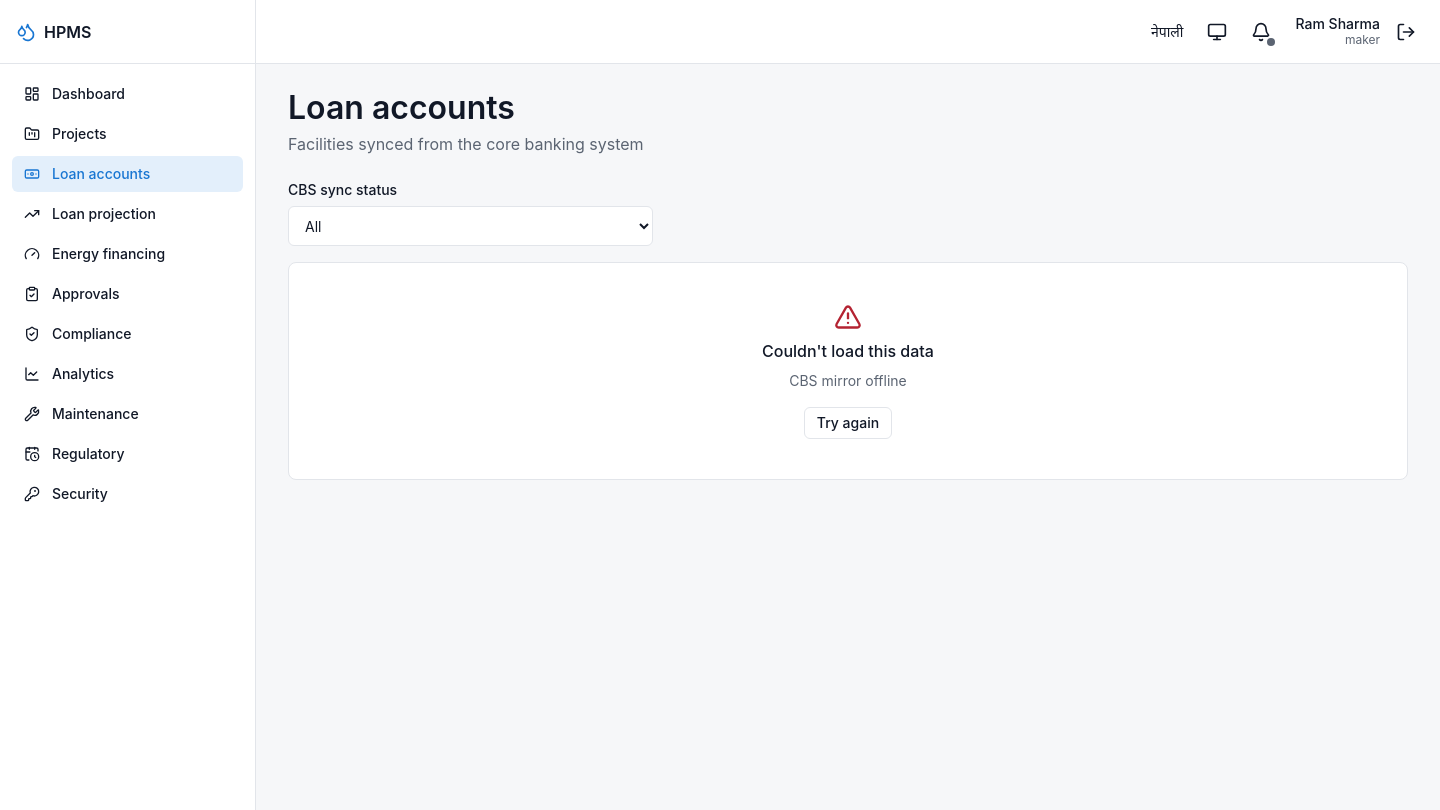
Test: LoansPage › shows an error with retry when loading fails, and recovers
The width and height of the screenshot is (1440, 810).
expect the text "CBS mirror offline" is shown: met, box [789,371,907,391]
Click the button "Try again" at (848, 423), box [804,407,892,439]
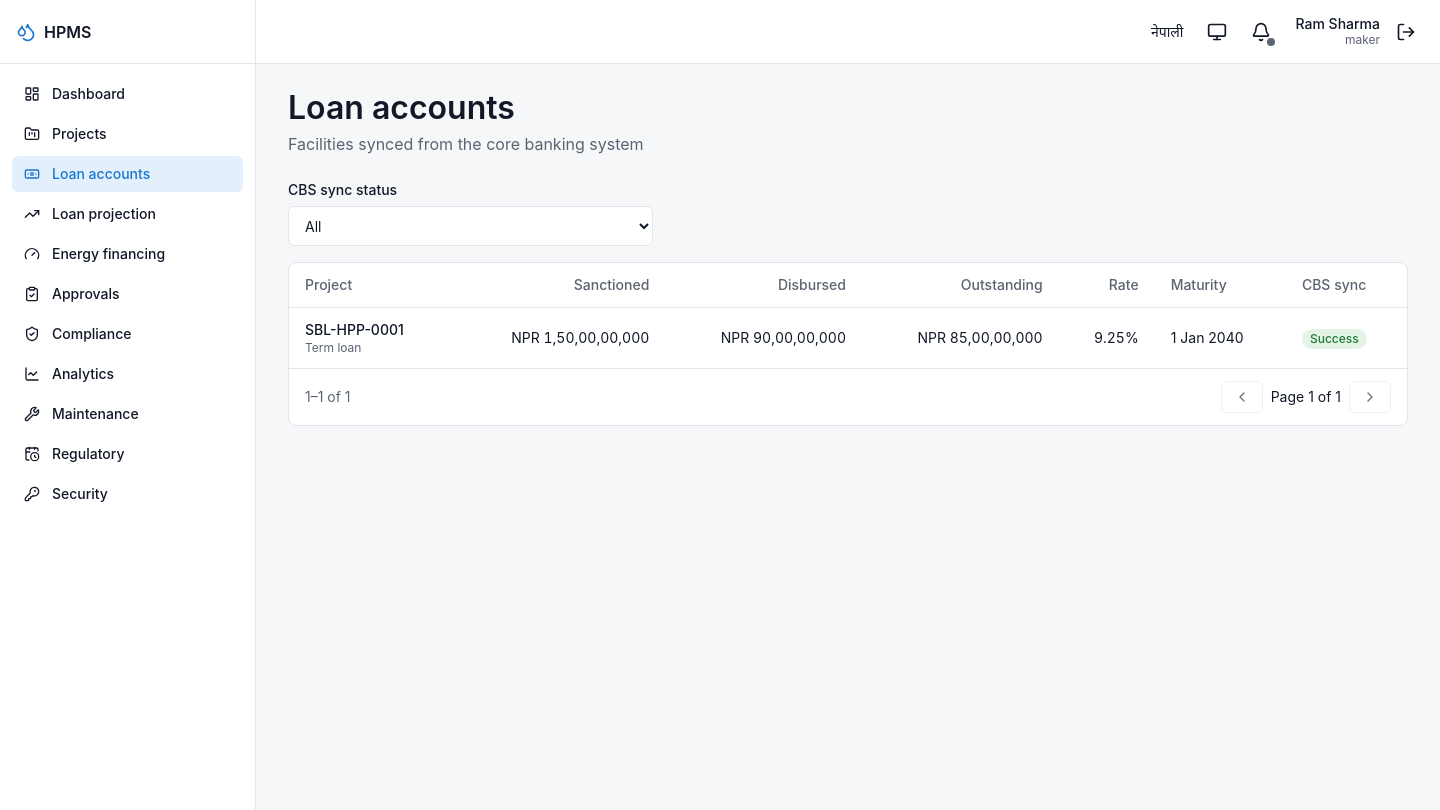
expect the text "SBL-HPP-0001" is shown: met, box [305,321,404,338]
